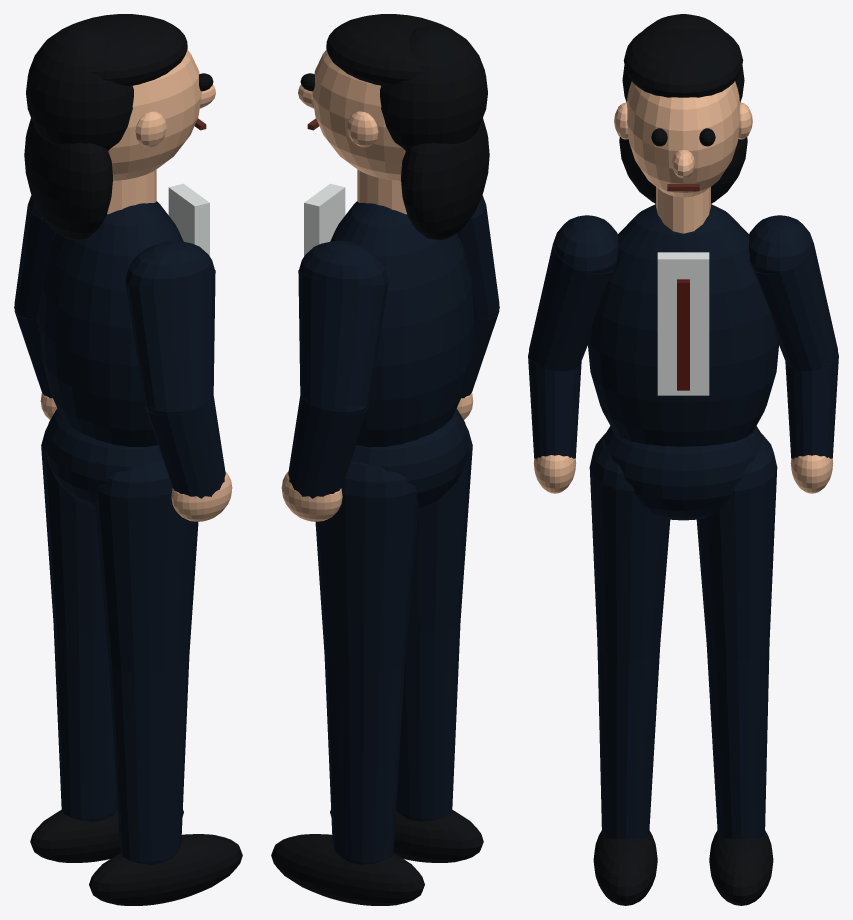
File: person_02.dae
3 views of the same model, side by side, from view 1: azimuth 30°, elevation 25°; view 2: azimuth 150°, elevation 25°; view 3: azimuth 270°, elevation 25° (orthographic).
Visible parts, largest first — view 1: part0node, part1node, part4node, part2node; view 2: part0node, part1node, part4node, part2node; view 3: part0node, part1node, part4node, part2node, part3node.
Part boxes in pixels (x1,y1,x2,y2): part0node: (14,195,225,864); part1node: (24,14,242,905); part4node: (40,50,232,521); part2node: (168,183,209,256); part0node: (288,195,499,864); part1node: (271,14,489,905); part4node: (281,50,473,521); part2node: (304,183,345,256); part0node: (528,204,838,838); part1node: (593,14,773,905); part4node: (533,81,833,493); part2node: (657,252,709,395); part3node: (677,279,689,390).
Bounding box in the file's own units: 0.033 × 0.05 × 0.15.
